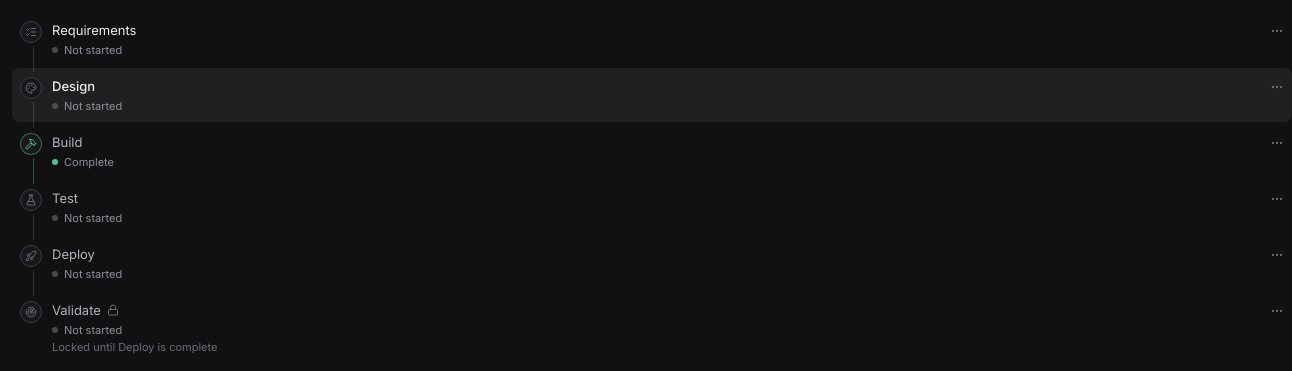
StageNavigator › offers skip, not un-skip, for a stage that is not skipped
The image size is (1292, 371).
What coordinates should you click on to do the following:
click the button with test id "stage-menu-build"
I would click on:
 (1277, 143)
Its box is [1266,132,1288,154].
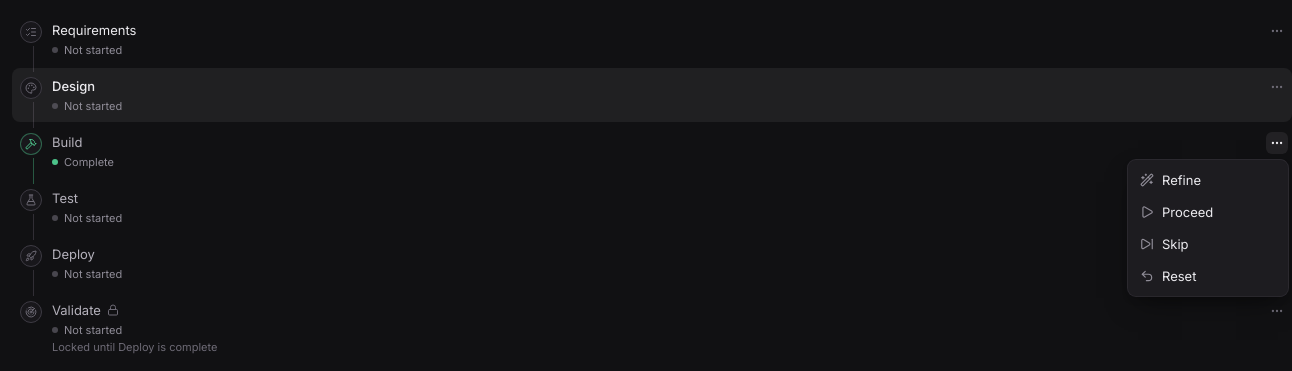
Expected: the menu item with test id "stage-action-build-skip" is shown, [1132,228,1284,260]
